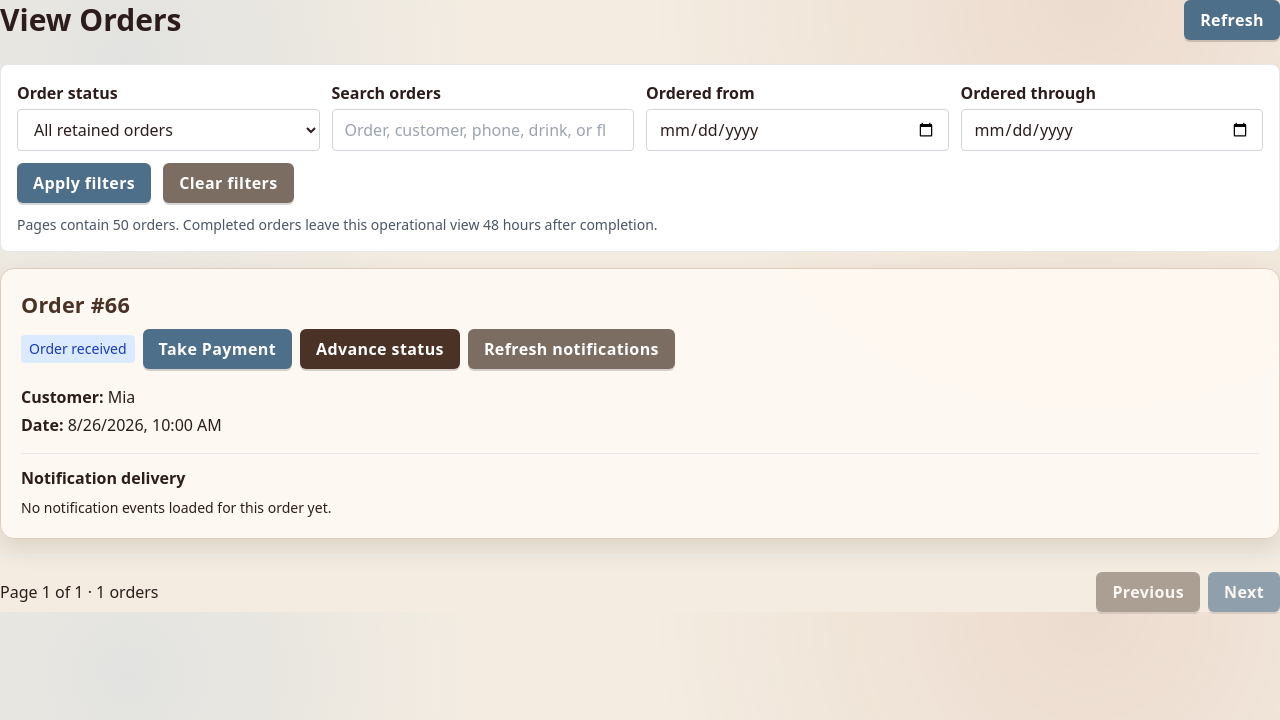
Test: staff manual payment recording › records Cash independently of Received fulfillment
This screenshot has width=1280, height=720.
Click the button "Take Payment". click: (217, 349)
box: x1=143 y1=329 x2=292 y2=369
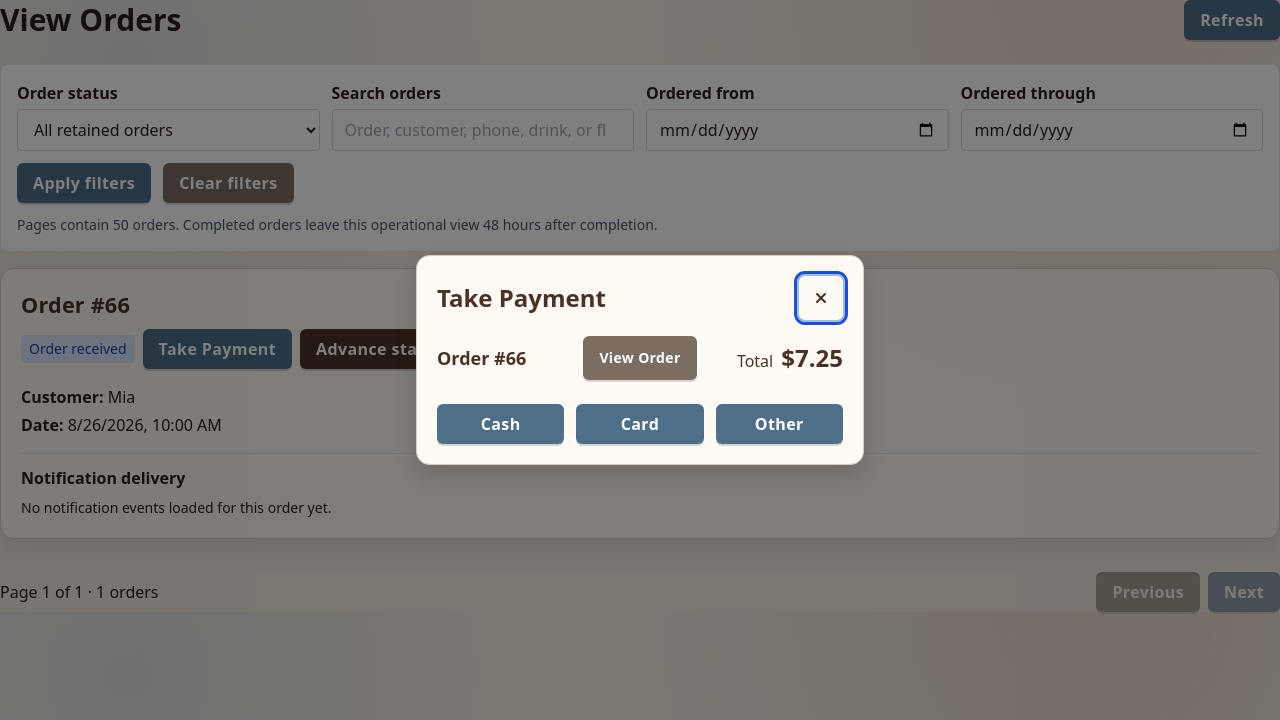
Click the button "Cash". click: (501, 424)
box: x1=437 y1=404 x2=564 y2=444
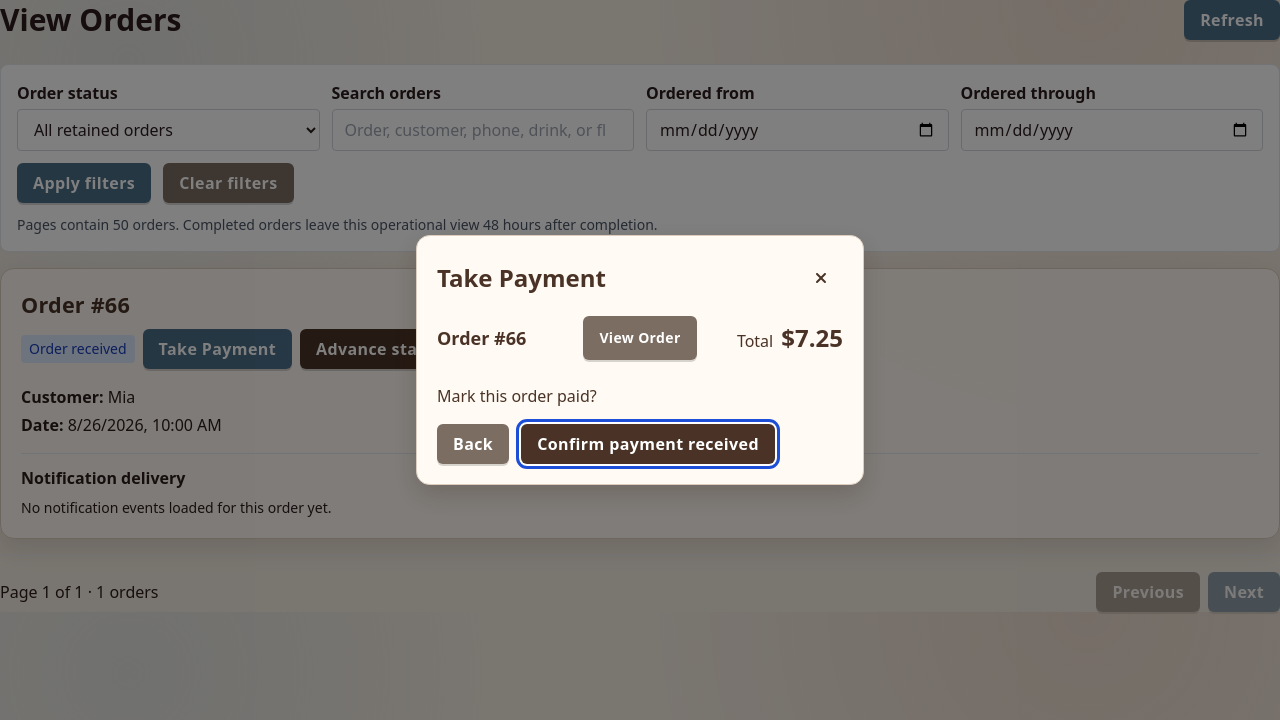
Expected: the text "Paid · Cash" is not shown
Click the button "Confirm payment received". click: (648, 444)
box: x1=521 y1=424 x2=775 y2=464
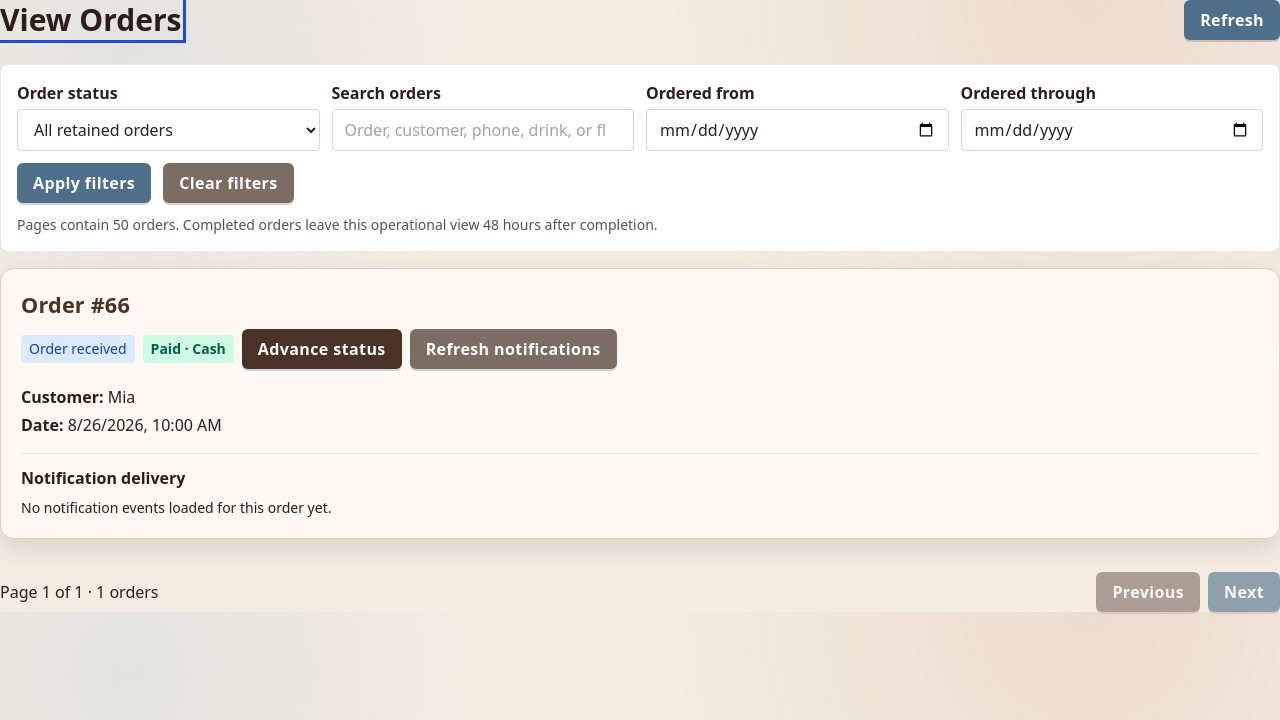
Expected: the text "Paid · Cash" is shown, x1=143 y1=335 x2=234 y2=363
Expected: the dialog is gone
Expected: the button "Take Payment" is gone
